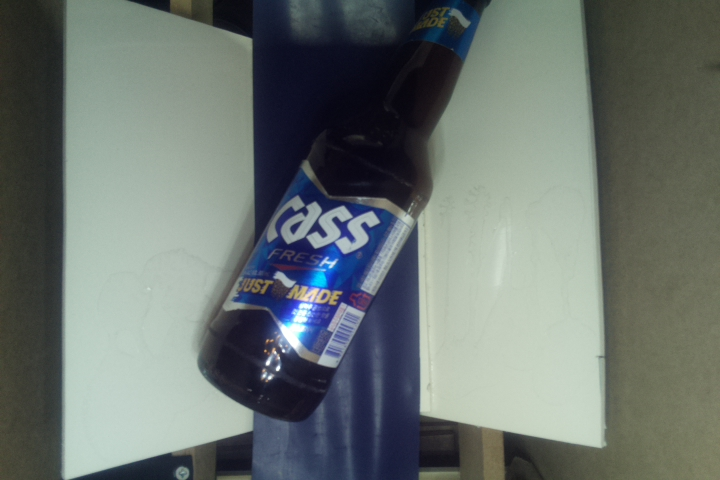makju: (192, 1, 494, 424)
